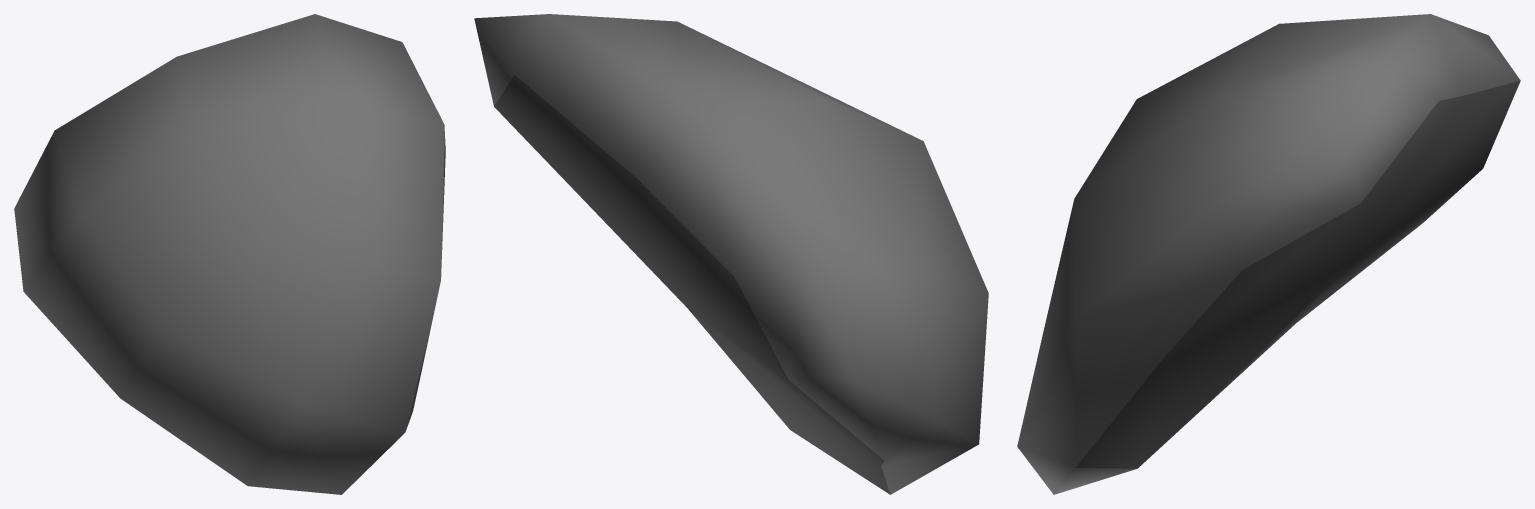
Rendered from rock_07.fbx.
The picture shows the model from 3 angles, left to right: view 1: azimuth 30°, elevation 25°; view 2: azimuth 150°, elevation 25°; view 3: azimuth 270°, elevation 25°; orthographic projection. The views are drawn at different scales.
Visible parts, largest first — view 1: rock_07; view 2: rock_07; view 3: rock_07.
Boxes of the visible parts, x1,y1,x2,y2 form: rock_07: [14, 14, 445, 494]; rock_07: [474, 14, 988, 494]; rock_07: [1017, 14, 1520, 494].
Size of the model in its own units: 46.13 by 44.84 by 41.01.
